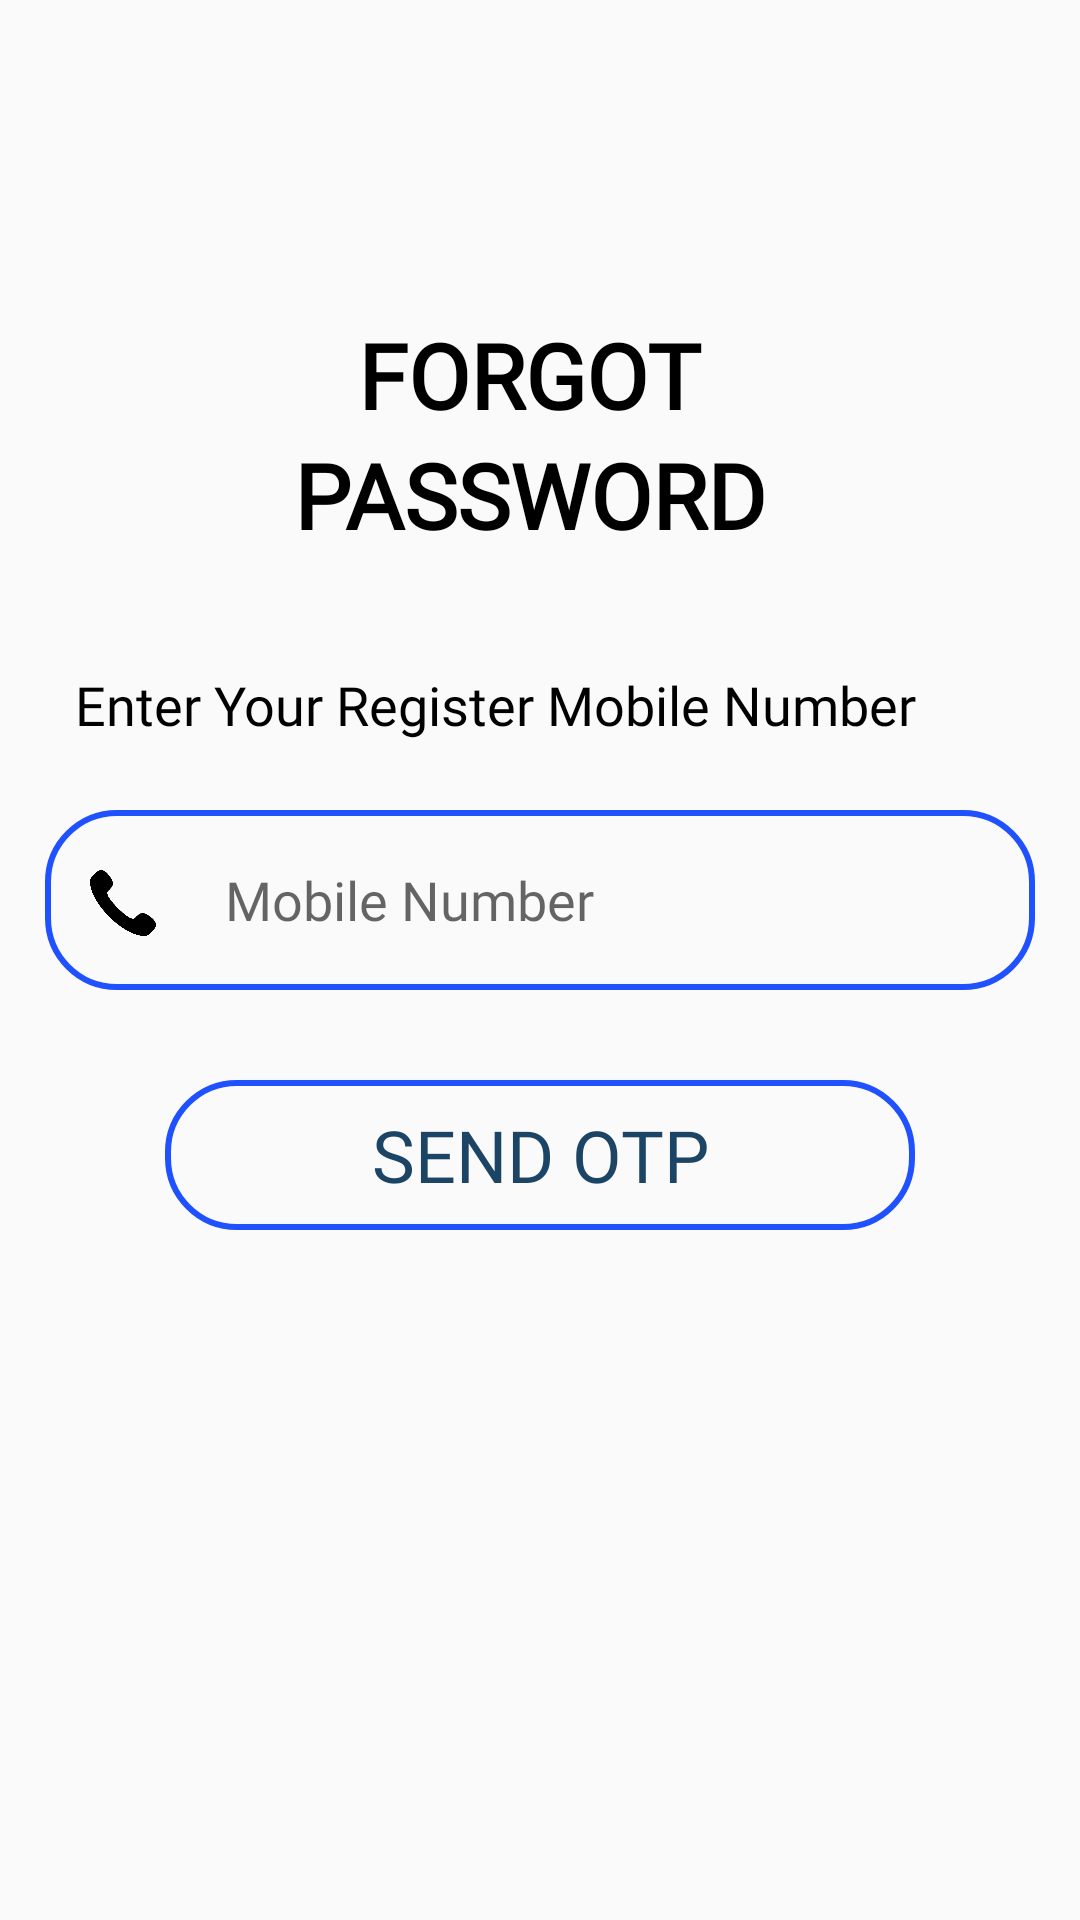

Icon bounding boxes for this 1080×1920 phone screenshot, format box(x1, y1, x2, y2):
phone: box(90, 870, 156, 936)
